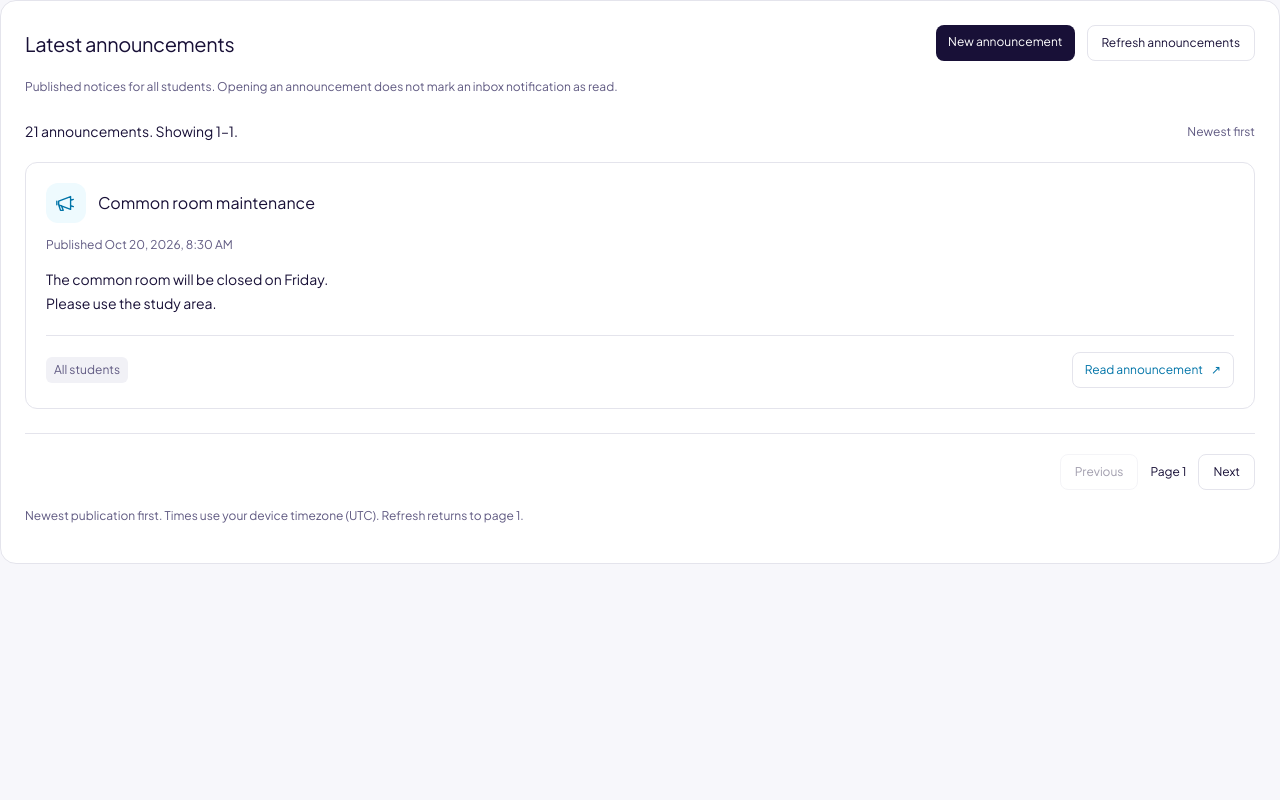
Test: paginates and refreshes the latest page without duplicate pending requests
Expected: the link "Common room maintenance" is shown, x1=98 y1=192 x2=315 y2=213
Click the button "Next" at (1227, 472), box x1=1198 y1=454 x2=1255 y2=490
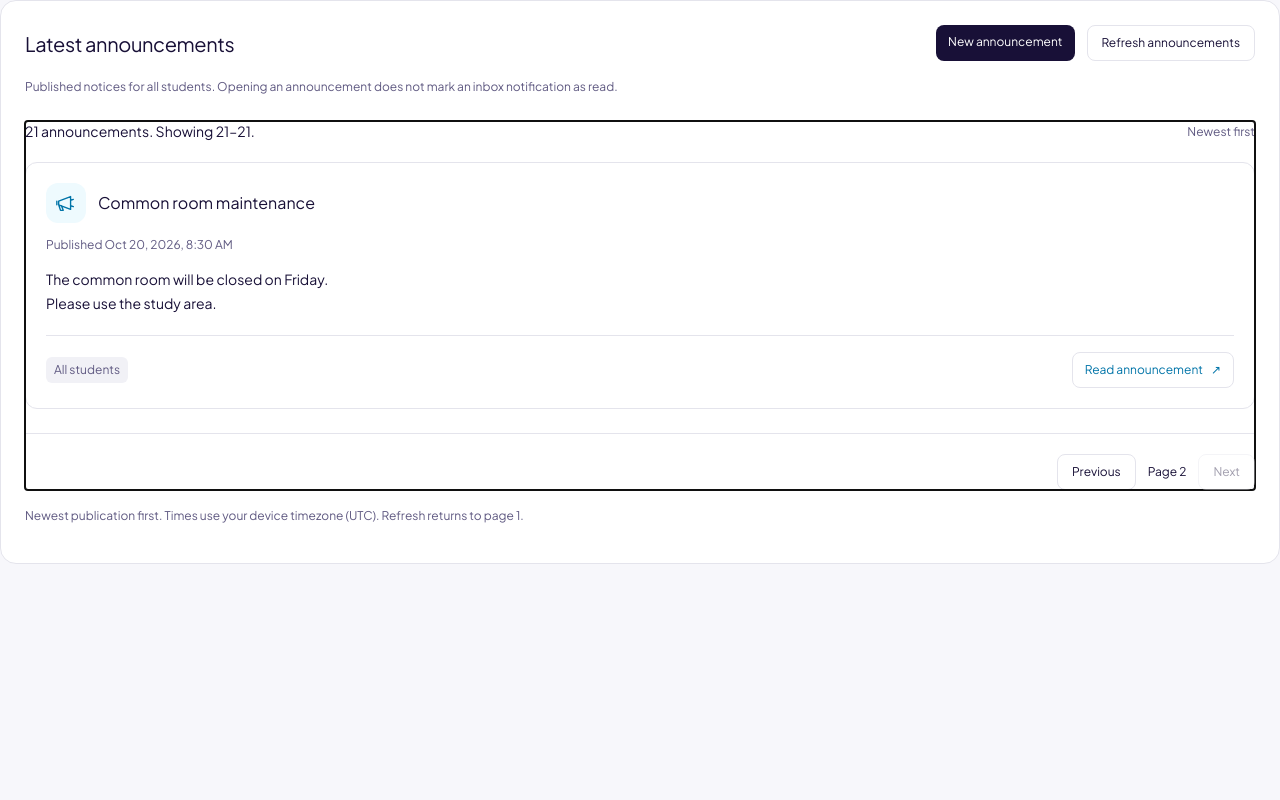
Expected: the text "Page 2" is shown, x1=1148 y1=463 x2=1186 y2=481
Click the button "Refresh announcements" at (1171, 43), box x1=1086 y1=25 x2=1255 y2=61
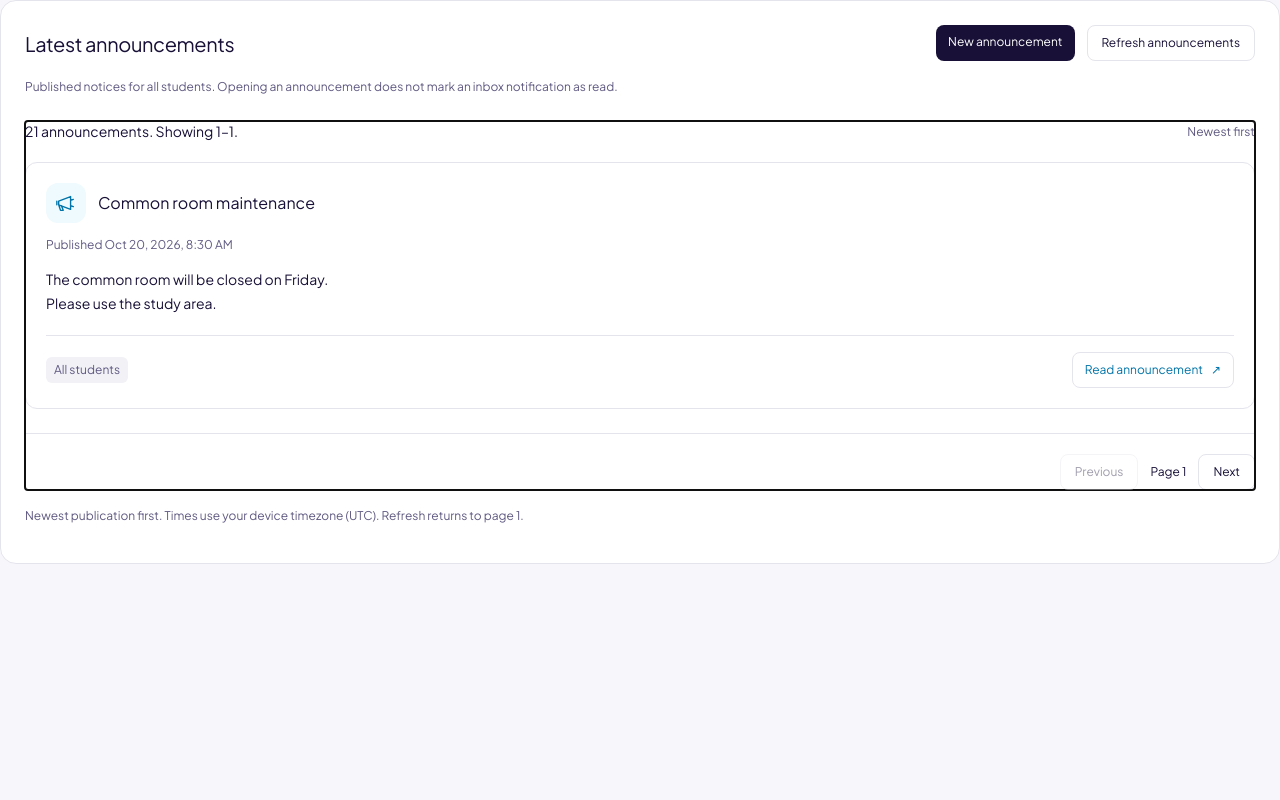
Expected: the text "Page 1" is shown, x1=1150 y1=463 x2=1186 y2=481
